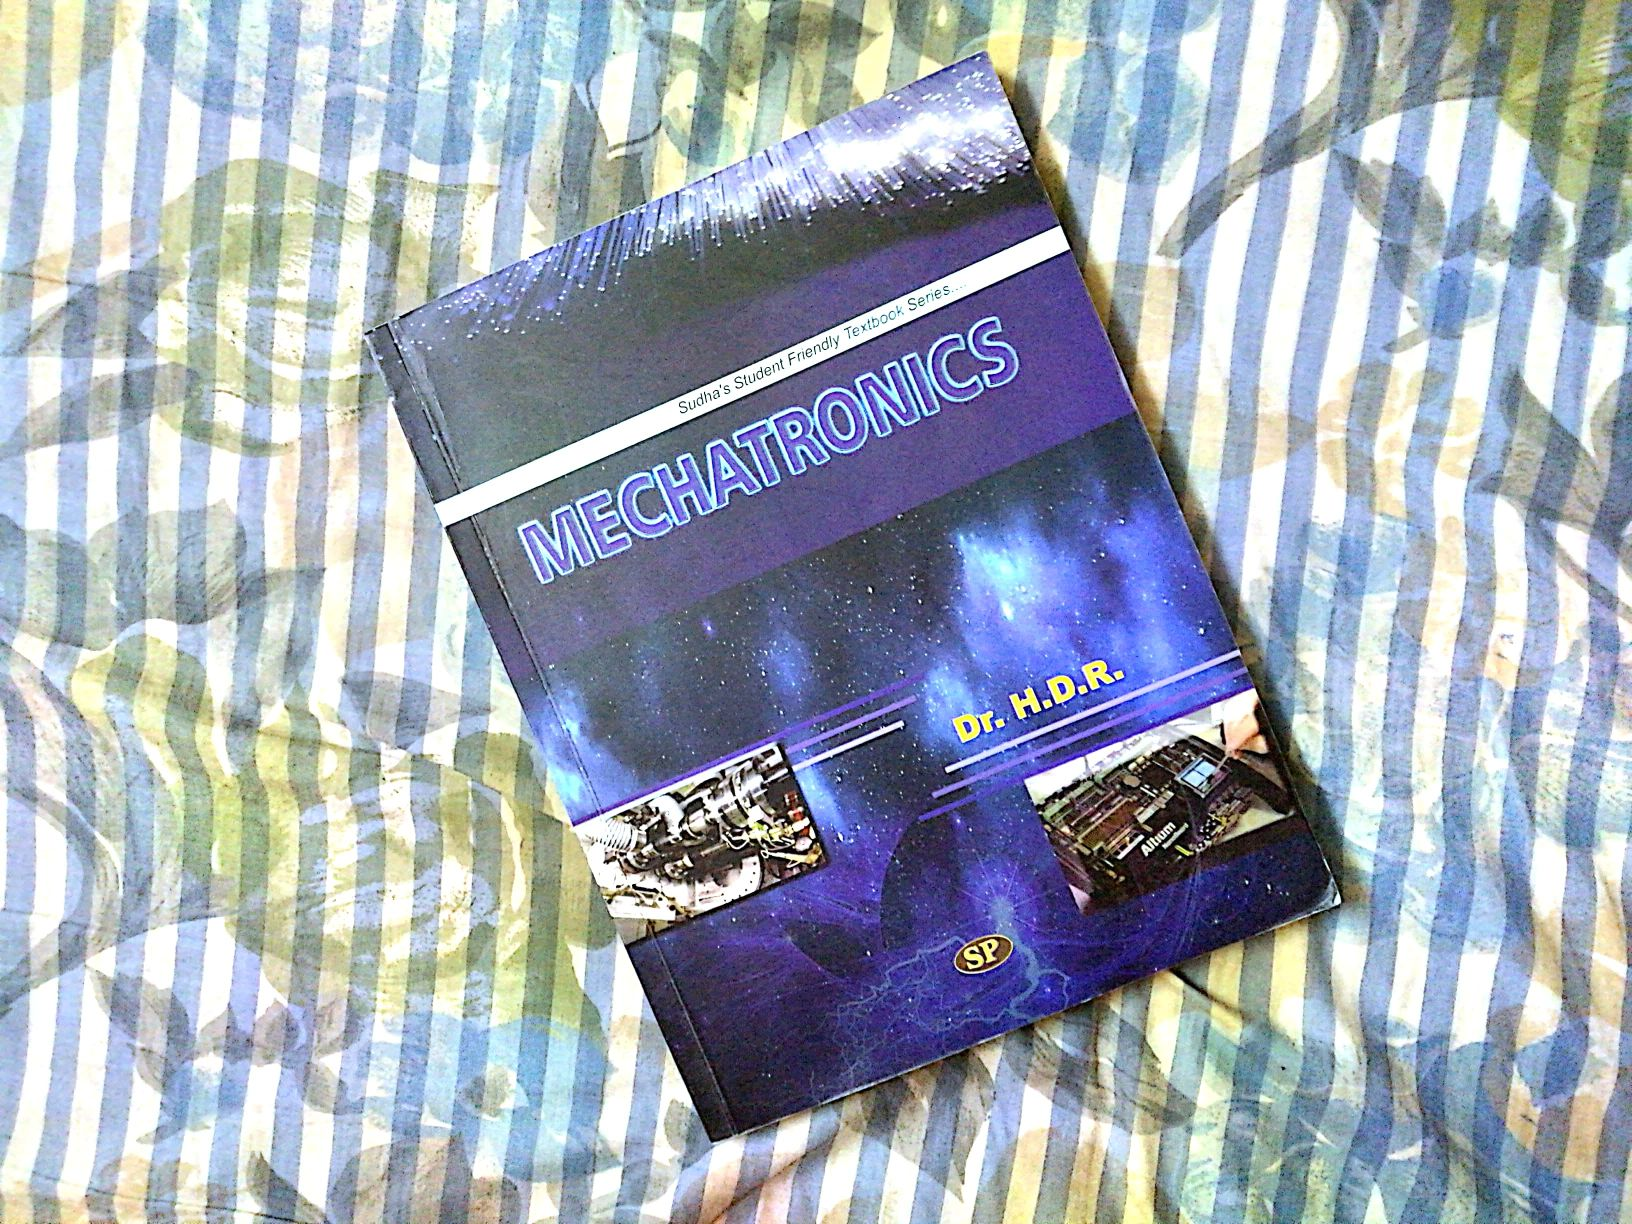mechatronics: (355, 104, 1424, 1147)
